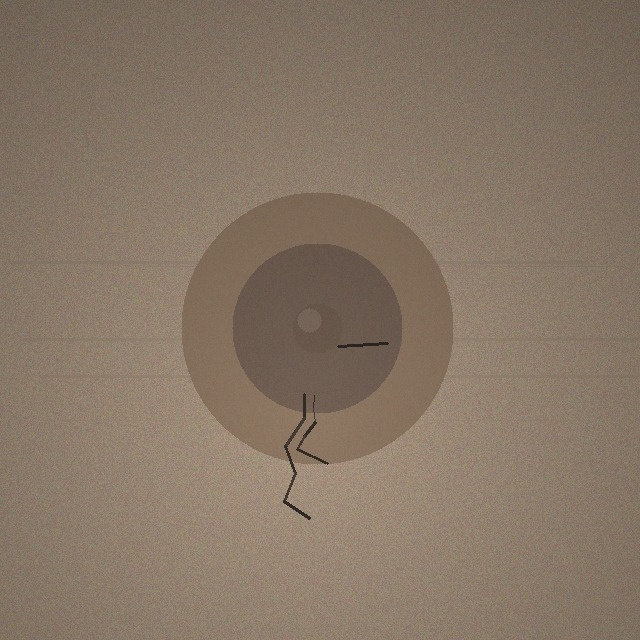crack: (181, 192, 453, 464)
